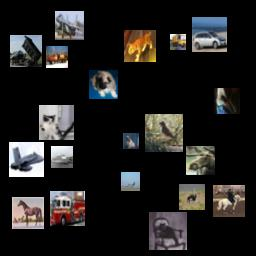airplane: (9, 142, 44, 177), (55, 11, 84, 40), (121, 172, 140, 191)
automobile: (192, 17, 227, 52)
bird: (145, 114, 183, 152), (214, 88, 240, 114), (179, 184, 205, 210)
cat: (149, 212, 187, 250), (39, 105, 74, 140), (124, 30, 156, 62)
deer: (186, 146, 215, 175)
dog: (89, 70, 118, 99), (123, 133, 139, 149)
ship: (51, 146, 73, 168)
truck: (50, 191, 85, 226), (10, 35, 42, 67), (46, 46, 68, 68), (170, 34, 186, 50)
